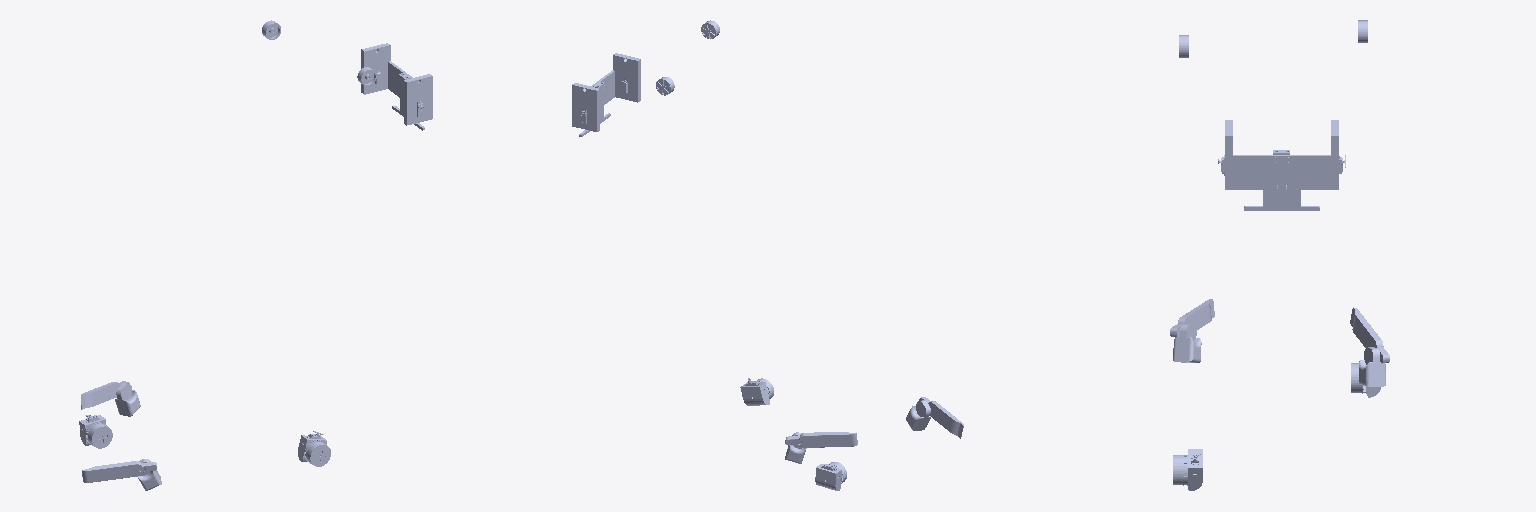
URDF robot description (fullrobotassempackage):
<?xml version="1.0" encoding="utf-8"?>
<!-- This URDF was automatically created by SolidWorks to URDF Exporter! Originally created by Stephen Brawner (brawner@gmail.com) 
     Commit Version: 1.6.0-1-g15f4949  Build Version: 1.6.7594.29634
     For more information, please see http://wiki.ros.org/sw_urdf_exporter -->
<robot
  name="fullrobotassempackage">
  <link
    name="base_link">
    <inertial>
      <origin
        xyz="-0.18169 0.23656 -0.026535"
        rpy="0 0 0" />
      <mass
        value="1.6424" />
      <inertia
        ixx="0.018554"
        ixy="2.0429E-06"
        ixz="2.665E-05"
        iyy="0.019015"
        iyz="6.9705E-07"
        izz="0.022376" />
    </inertial>
    <visual>
      <origin
        xyz="0 0 0"
        rpy="0 0 0" />
      <geometry>
        <mesh
          filename="package://fullrobotassempackage/meshes/base_link.STL" />
      </geometry>
      <material
        name="">
        <color
          rgba="0.79216 0.81961 0.93333 1" />
      </material>
    </visual>
    <collision>
      <origin
        xyz="0 0 0"
        rpy="0 0 0" />
      <geometry>
        <mesh
          filename="package://fullrobotassempackage/meshes/base_link.STL" />
      </geometry>
    </collision>
  </link>
  <link
    name="wheel_right_link">
    <inertial>
      <origin
        xyz="0.23239 0.13295 -0.15496"
        rpy="0 0 0" />
      <mass
        value="0.05056" />
      <inertia
        ixx="1.4651E-05"
        ixy="4.8342E-09"
        ixz="4.7127E-10"
        iyy="2.5069E-05"
        iyz="2.331E-08"
        izz="1.4653E-05" />
    </inertial>
    <visual>
      <origin
        xyz="0 0 0"
        rpy="0 0 0" />
      <geometry>
        <mesh
          filename="package://fullrobotassempackage/meshes/wheel_right_link.STL" />
      </geometry>
      <material
        name="">
        <color
          rgba="0.79216 0.81961 0.93333 1" />
      </material>
    </visual>
    <collision>
      <origin
        xyz="0 0 0"
        rpy="0 0 0" />
      <geometry>
        <mesh
          filename="package://fullrobotassempackage/meshes/wheel_right_link.STL" />
      </geometry>
    </collision>
  </link>
  <joint
    name="rightwheel"
    type="continuous">
    <origin
      xyz="0.18581 0.18863 0.30417"
      rpy="0 0 -3.1416" />
    <parent
      link="base_link" />
    <child
      link="wheel_right_link" />
    <axis
      xyz="0 1 0" />
    <limit
      lower="0"
      upper="0"
      effort="2"
      velocity="11.519" />
    <dynamics
      damping="0.1"
      friction="0.1" />
  </joint>
  <link
    name="wheel_left_link">
    <inertial>
      <origin
        xyz="-0.23239 0.22876 -0.15496"
        rpy="0 0 0" />
      <mass
        value="0.05056" />
      <inertia
        ixx="1.4651E-05"
        ixy="-2.0514E-09"
        ixz="-2.0348E-10"
        iyy="2.5069E-05"
        iyz="2.3717E-08"
        izz="1.4653E-05" />
    </inertial>
    <visual>
      <origin
        xyz="0 0 0"
        rpy="0 0 0" />
      <geometry>
        <mesh
          filename="package://fullrobotassempackage/meshes/wheel_left_link.STL" />
      </geometry>
      <material
        name="">
        <color
          rgba="0.79216 0.81961 0.93333 1" />
      </material>
    </visual>
    <collision>
      <origin
        xyz="0 0 0"
        rpy="0 0 0" />
      <geometry>
        <mesh
          filename="package://fullrobotassempackage/meshes/wheel_left_link.STL" />
      </geometry>
    </collision>
  </link>
  <joint
    name="wheelleft"
    type="continuous">
    <origin
      xyz="0.18581 0.18863 0.30417"
      rpy="0 0 0" />
    <parent
      link="base_link" />
    <child
      link="wheel_left_link" />
    <axis
      xyz="0 1 0" />
    <limit
      lower="0"
      upper="0"
      effort="2"
      velocity="11.519" />
    <dynamics
      damping="0.1"
      friction="0.1" />
  </joint>
  <link
    name="upper_body">
    <inertial>
      <origin
        xyz="0.51167 0.082198 0.24248"
        rpy="0 0 0" />
      <mass
        value="1.0125" />
      <inertia
        ixx="0.015585"
        ixy="1.1113E-11"
        ixz="0.00045297"
        iyy="0.0033239"
        iyz="-8.855E-10"
        izz="0.014182" />
    </inertial>
    <visual>
      <origin
        xyz="0 0 0"
        rpy="0 0 0" />
      <geometry>
        <mesh
          filename="package://fullrobotassempackage/meshes/upper_body.STL" />
      </geometry>
      <material
        name="">
        <color
          rgba="0.79216 0.81961 0.93333 1" />
      </material>
    </visual>
    <collision>
      <origin
        xyz="0 0 0"
        rpy="0 0 0" />
      <geometry>
        <mesh
          filename="package://fullrobotassempackage/meshes/upper_body.STL" />
      </geometry>
    </collision>
  </link>
  <joint
    name="halfbody"
    type="prismatic">
    <origin
      xyz="0.20973 0.15434 -0.25626"
      rpy="3.1416 0 3.1416" />
    <parent
      link="base_link" />
    <child
      link="upper_body" />
    <axis
      xyz="1 0 0" />
    <limit
      lower="0"
      upper="0.5"
      effort="50"
      velocity="0.0384" />
    <dynamics
      damping="0.1"
      friction="0.1" />
  </joint>
  <link
    name="right_shoulder">
    <inertial>
      <origin
        xyz="0.045612 0.14196 -0.12092"
        rpy="0 0 0" />
      <mass
        value="0.42814" />
      <inertia
        ixx="0.00038339"
        ixy="-2.0333E-06"
        ixz="6.1751E-06"
        iyy="0.00038112"
        iyz="-7.5666E-06"
        izz="0.00040447" />
    </inertial>
    <visual>
      <origin
        xyz="0 0 0"
        rpy="0 0 0" />
      <geometry>
        <mesh
          filename="package://fullrobotassempackage/meshes/right_shoulder.STL" />
      </geometry>
      <material
        name="">
        <color
          rgba="0.79216 0.81961 0.93333 1" />
      </material>
    </visual>
    <collision>
      <origin
        xyz="0 0 0"
        rpy="0 0 0" />
      <geometry>
        <mesh
          filename="package://fullrobotassempackage/meshes/right_shoulder.STL" />
      </geometry>
    </collision>
  </link>
  <joint
    name="rightshoulder"
    type="revolute">
    <origin
      xyz="-0.23881 0.17058 -0.37379"
      rpy="0 -0.021027 -3.1416" />
    <parent
      link="base_link" />
    <child
      link="right_shoulder" />
    <axis
      xyz="0 1 0" />
    <limit
      lower="0"
      upper="3.1416"
      effort="1.1"
      velocity="7.5" />
    <dynamics
      damping="0.05"
      friction="0.05" />
  </joint>
  <link
    name="left_shoulder">
    <inertial>
      <origin
        xyz="-0.048271 0.27368 -0.12016"
        rpy="0 0 0" />
      <mass
        value="0.42814" />
      <inertia
        ixx="0.0003818"
        ixy="4.8393E-07"
        ixz="-1.4206E-06"
        iyy="0.00038112"
        iyz="-7.8201E-06"
        izz="0.00040606" />
    </inertial>
    <visual>
      <origin
        xyz="0 0 0"
        rpy="0 0 0" />
      <geometry>
        <mesh
          filename="package://fullrobotassempackage/meshes/left_shoulder.STL" />
      </geometry>
      <material
        name="">
        <color
          rgba="0.79216 0.81961 0.93333 1" />
      </material>
    </visual>
    <collision>
      <origin
        xyz="0 0 0"
        rpy="0 0 0" />
      <geometry>
        <mesh
          filename="package://fullrobotassempackage/meshes/left_shoulder.STL" />
      </geometry>
    </collision>
  </link>
  <joint
    name="leftshoulder"
    type="revolute">
    <origin
      xyz="-0.23881 0.17058 -0.37379"
      rpy="0.0013991 0 0" />
    <parent
      link="base_link" />
    <child
      link="left_shoulder" />
    <axis
      xyz="0 1 0" />
    <limit
      lower="0"
      upper="3.1416"
      effort="1.1"
      velocity="7.5" />
    <dynamics
      damping="0.05"
      friction="0.05" />
  </joint>
  <link
    name="left_arm">
    <inertial>
      <origin
        xyz="-0.14381 0.29124 -0.0052475"
        rpy="0 0 0" />
      <mass
        value="0.44382" />
      <inertia
        ixx="0.00056547"
        ixy="-0.00021978"
        ixz="0.0002721"
        iyy="0.00093155"
        iyz="0.00013416"
        izz="0.00069783" />
    </inertial>
    <visual>
      <origin
        xyz="0 0 0"
        rpy="0 0 0" />
      <geometry>
        <mesh
          filename="package://fullrobotassempackage/meshes/left_arm.STL" />
      </geometry>
      <material
        name="">
        <color
          rgba="0.79216 0.81961 0.93333 1" />
      </material>
    </visual>
    <collision>
      <origin
        xyz="0 0 0"
        rpy="0 0 0" />
      <geometry>
        <mesh
          filename="package://fullrobotassempackage/meshes/left_arm.STL" />
      </geometry>
    </collision>
  </link>
  <joint
    name="leftarm"
    type="revolute">
    <origin
      xyz="-0.20132 0.16721 -0.32659"
      rpy="0 -0.24449 0" />
    <parent
      link="base_link" />
    <child
      link="left_arm" />
    <axis
      xyz="0 0 1" />
    <limit
      lower="0"
      upper="3.1416"
      effort="1.1"
      velocity="7.5" />
    <dynamics
      damping="0.05"
      friction="0.05" />
  </joint>
  <link
    name="right_arm">
    <inertial>
      <origin
        xyz="0.03864 -0.041522 -0.040664"
        rpy="0 0 0" />
      <mass
        value="0.44382" />
      <inertia
        ixx="0.00035115"
        ixy="-6.4015E-06"
        ixz="0.00022729"
        iyy="0.0010344"
        iyz="8.5952E-06"
        izz="0.00080929" />
    </inertial>
    <visual>
      <origin
        xyz="0 0 0"
        rpy="0 0 0" />
      <geometry>
        <mesh
          filename="package://fullrobotassempackage/meshes/right_arm.STL" />
      </geometry>
      <material
        name="">
        <color
          rgba="0.79216 0.81961 0.93333 1" />
      </material>
    </visual>
    <collision>
      <origin
        xyz="0 0 0"
        rpy="0 0 0" />
      <geometry>
        <mesh
          filename="package://fullrobotassempackage/meshes/right_arm.STL" />
      </geometry>
    </collision>
  </link>
  <joint
    name="rightarm"
    type="revolute">
    <origin
      xyz="-0.39947 0.057493 -0.34727"
      rpy="0.057249 -0.23782 -0.23863" />
    <parent
      link="base_link" />
    <child
      link="right_arm" />
    <axis
      xyz="0 0 1" />
    <limit
      lower="0"
      upper="3.1416"
      effort="1.1"
      velocity="7.5" />
    <dynamics
      damping="0.05"
      friction="0.05" />
  </joint>
</robot>

--- What the picture shows (computed from the rendered views, not written in the file) ---
Views: 3 orthographic renders of the robot side by side, from view 1: azimuth 30°, elevation 25°; view 2: azimuth 150°, elevation 25°; view 3: azimuth 270°, elevation 25°.
Robot: fullrobotassempackage — 8 links, 7 joints (4 revolute, 2 continuous, 1 prismatic); root link base_link; default pose: every joint at zero.
Links seen in each view (by area): view 1: upper_body, right_arm, left_arm, right_shoulder, left_shoulder; view 2: upper_body, left_arm, right_arm, right_shoulder, left_shoulder; view 3: upper_body, left_arm, right_arm, right_shoulder.
Link boxes in pixels (x1,y1,x2,y2): upper_body: (361, 43, 432, 130); right_arm: (82, 459, 161, 490); left_arm: (81, 381, 140, 416); right_shoulder: (298, 431, 330, 466); left_shoulder: (79, 415, 112, 448); upper_body: (572, 53, 640, 136); left_arm: (785, 432, 857, 463); right_arm: (906, 397, 963, 438); right_shoulder: (740, 378, 773, 405); left_shoulder: (815, 462, 846, 490); upper_body: (1218, 120, 1345, 210); left_arm: (1350, 307, 1389, 386); right_arm: (1170, 299, 1214, 362); right_shoulder: (1173, 449, 1202, 490).
Bounding box of the posed robot: 1.36 × 0.5837 × 1.41 m (x, y, z).
Meshes: 8 distinct files referenced, 7 mesh visuals loaded (7 binary STL); not drawn: 1 (reference not matched to a file when rendering).
